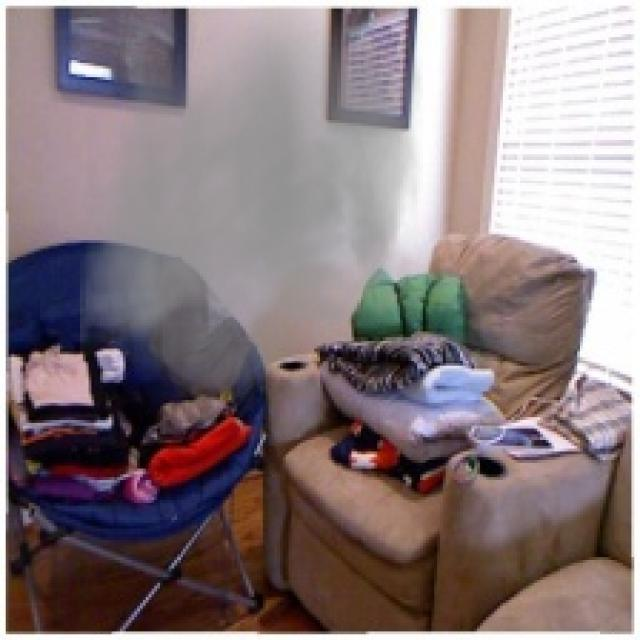smoke: (80, 6, 423, 420)
